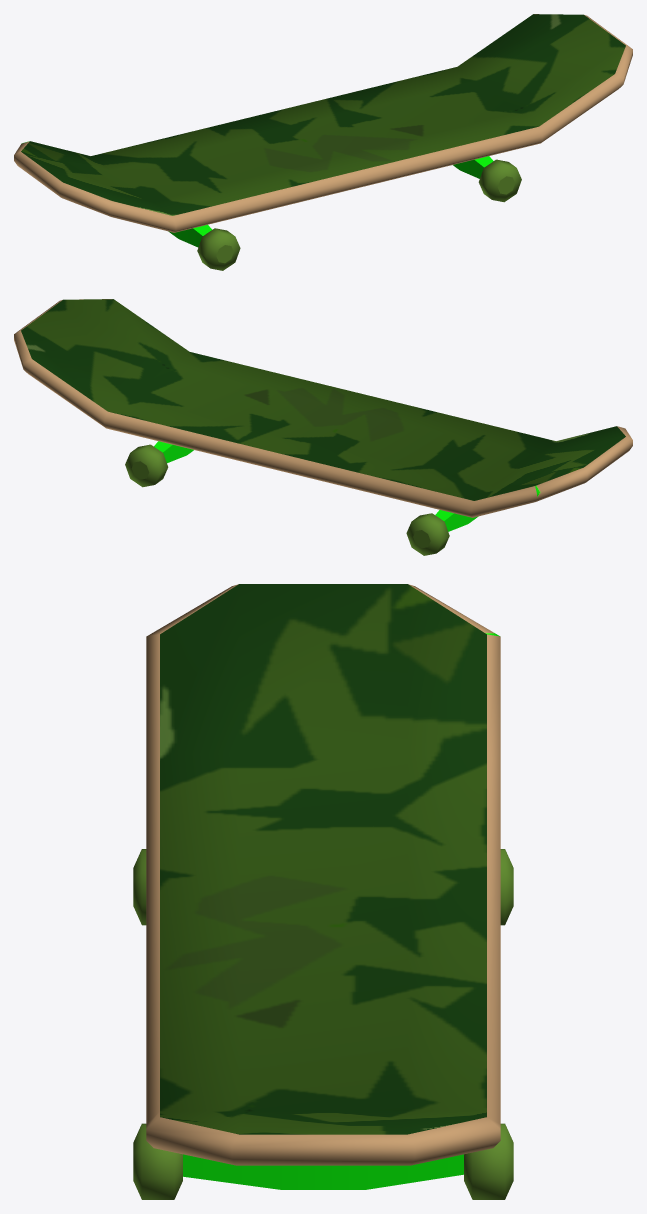
File: skate_verde.FBX
The picture shows the model from 3 angles, top to bottom: view 1: azimuth 30°, elevation 25°; view 2: azimuth 150°, elevation 25°; view 3: azimuth 270°, elevation 25°; orthographic projection. The views are drawn at different scales.
Parts seen in each view (by area): view 1: Skate_Verde; view 2: Skate_Verde; view 3: Skate_Verde.
Boxes of the visible parts, x1,y1,x2,y2 form: Skate_Verde: (14, 14, 632, 270); Skate_Verde: (14, 299, 632, 555); Skate_Verde: (133, 584, 513, 1199).
Size of the model in its own units: 192 by 55.25 by 33.26.
